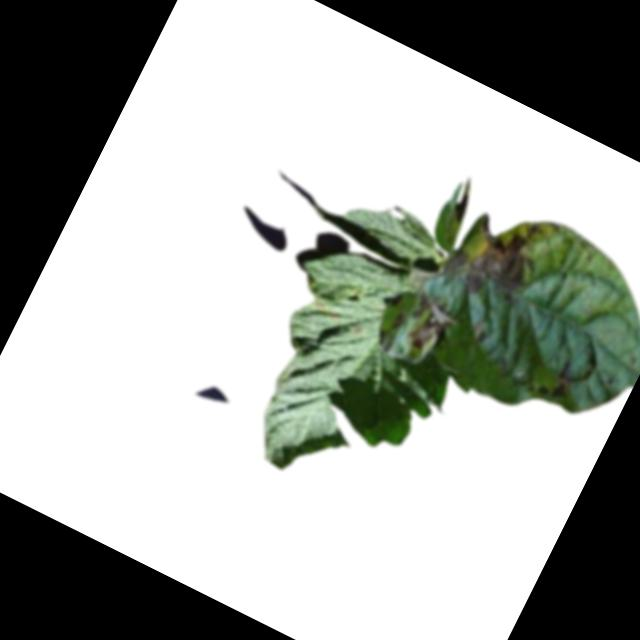Early_blight: (440, 199, 549, 314), (397, 289, 466, 363), (546, 356, 585, 404), (309, 299, 342, 326), (380, 287, 406, 312), (385, 308, 409, 334)
